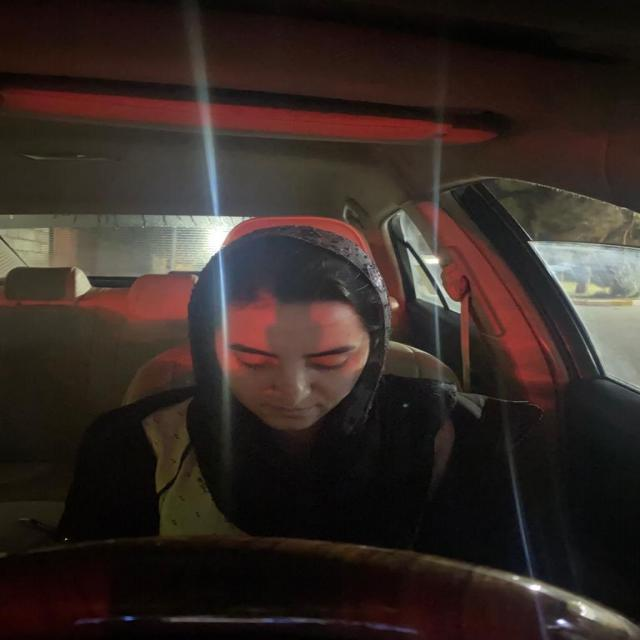drowsy: (184, 242, 402, 438)
